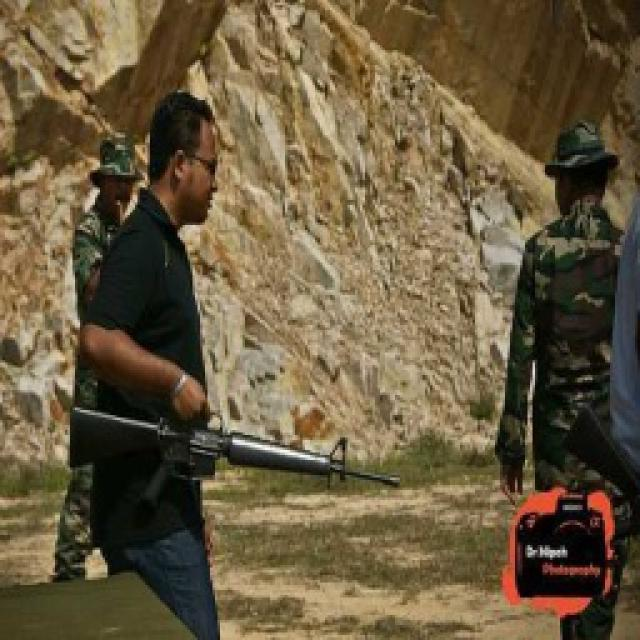long weapon: (48, 397, 426, 507)
